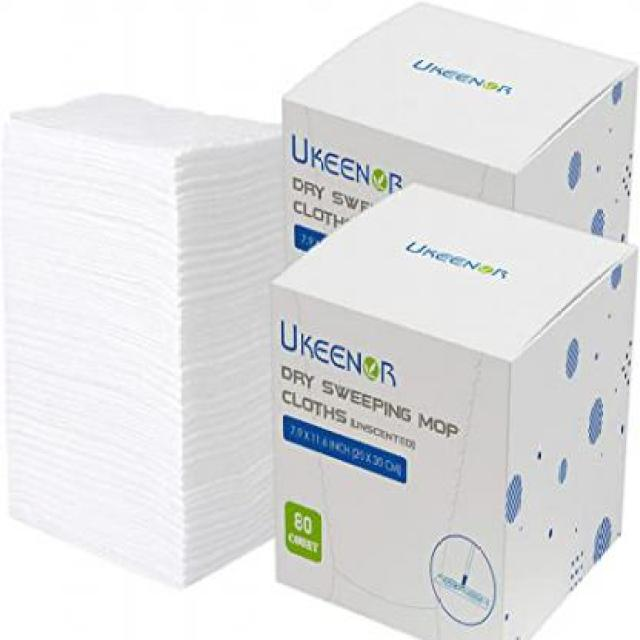box: (264, 184, 638, 640), (0, 79, 286, 640), (286, 0, 640, 250)
